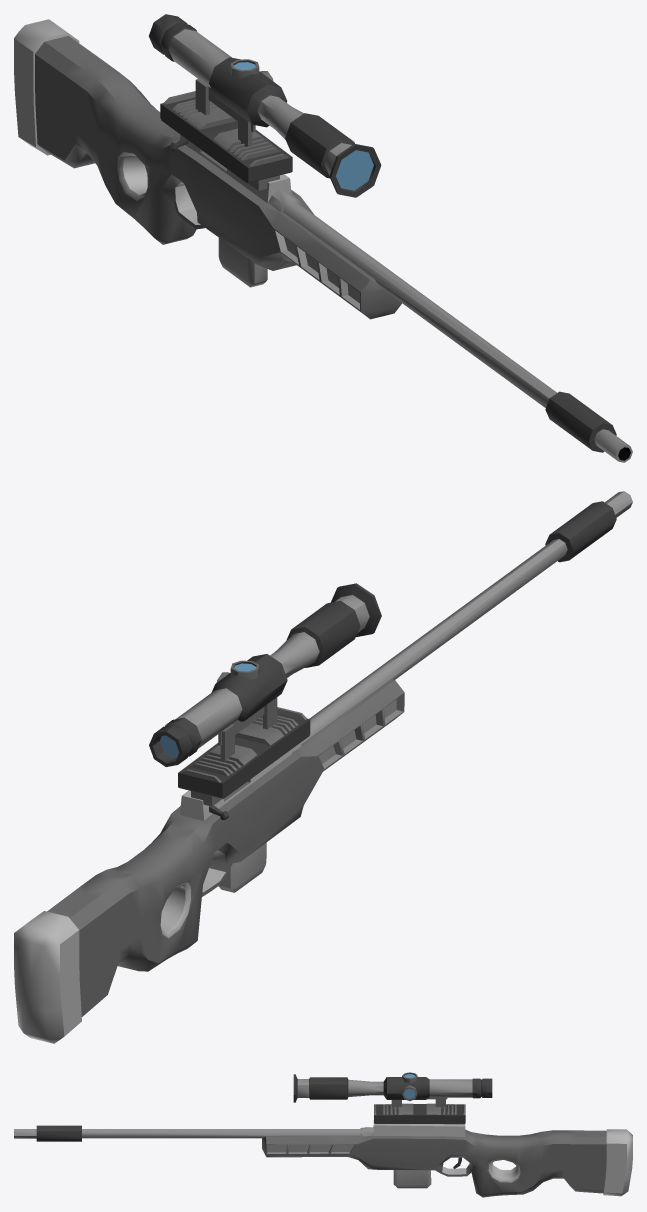
Rendered from 27-Optic-sniper.glb.
3 views of the same model, one above another, from view 1: azimuth 30°, elevation 25°; view 2: azimuth 150°, elevation 25°; view 3: azimuth 270°, elevation 25° (orthographic). The views are drawn at different scales.
Parts seen in each view (by area): view 1: Optic sniper; view 2: Optic sniper; view 3: Optic sniper.
Boxes of the visible parts, x1,y1,x2,y2 form: Optic sniper: (14,14,632,462); Optic sniper: (14,491,632,1043); Optic sniper: (14,1072,632,1197).
Bounding box in the file's own units: 0.0711 × 0.2778 × 1.3.
Materials: 1 (1 with a texture image).
